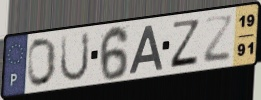6: (98, 23, 131, 82)
A: (127, 22, 164, 75)
O: (27, 36, 58, 89)
U: (58, 30, 91, 84)
Z: (169, 19, 202, 71), (202, 14, 235, 65)
